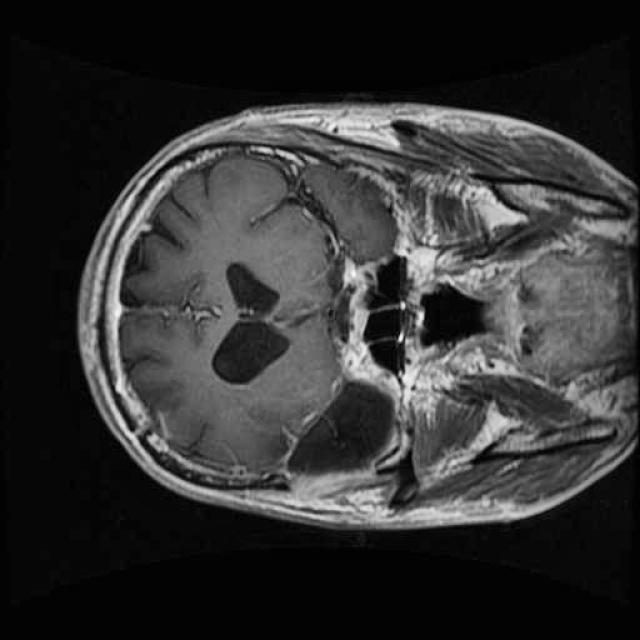Non-Tumor: (275, 361, 406, 494)
